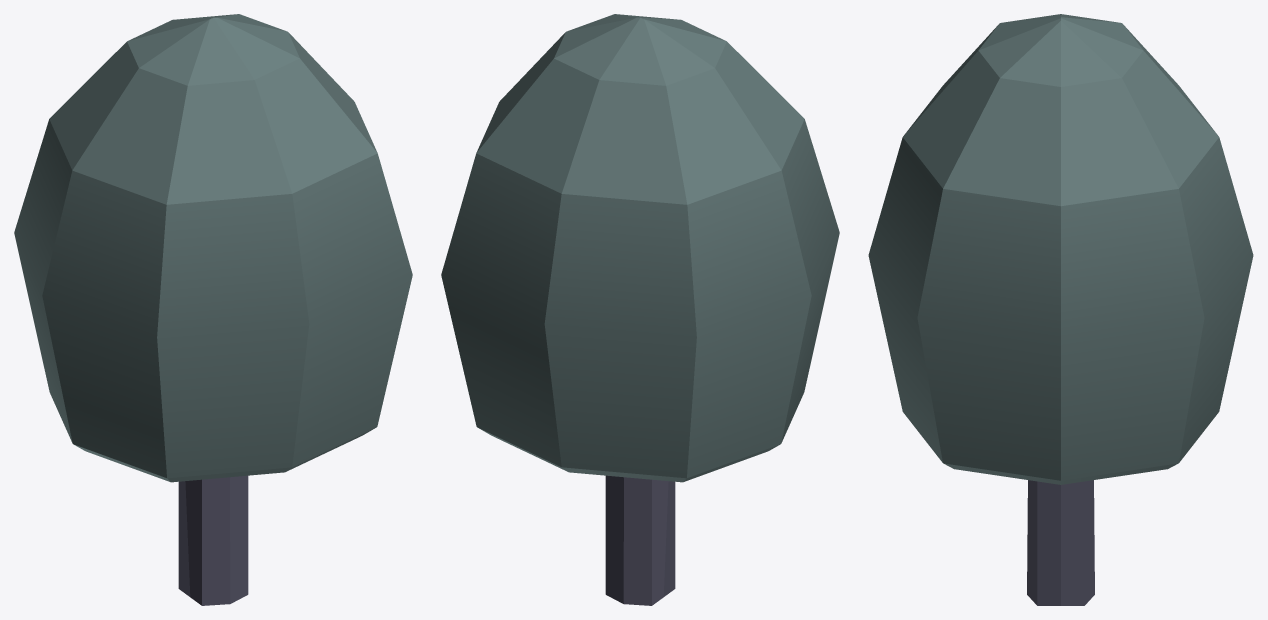
File: tree1.fbx
The picture shows the model from 3 angles, left to right: view 1: azimuth 30°, elevation 25°; view 2: azimuth 150°, elevation 25°; view 3: azimuth 270°, elevation 25°; orthographic projection.
Visible parts, largest first — view 1: leaves1, trunk1; view 2: leaves1, trunk1; view 3: leaves1, trunk1.
Boxes of the visible parts, box(x1,y1,x2,y2) form: leaves1: box(14, 14, 412, 482); trunk1: box(178, 475, 248, 605); leaves1: box(441, 14, 839, 482); trunk1: box(605, 475, 675, 605); leaves1: box(868, 14, 1253, 484); trunk1: box(1027, 480, 1094, 605).
Size of the model in its own units: 343 by 550 by 333.
